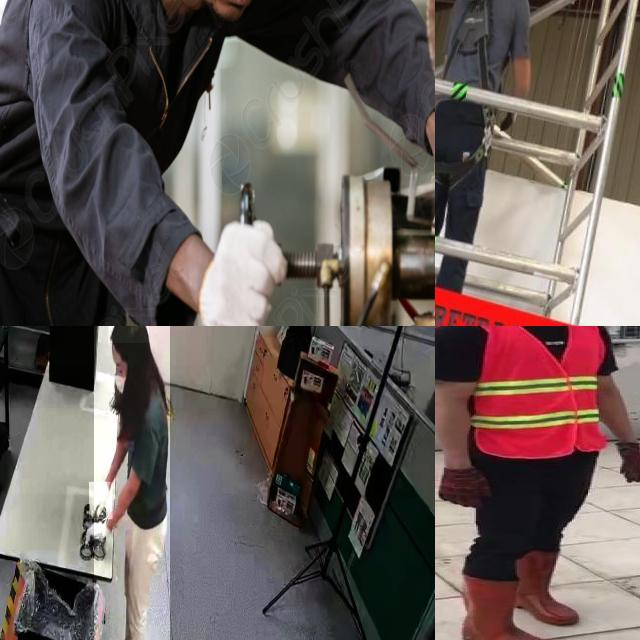Harness: (447, 0, 493, 90)
boots: (458, 577, 560, 640), (515, 551, 581, 625)
face_mask: (112, 356, 130, 400)
hand_glove: (89, 482, 113, 519), (85, 518, 109, 554)
head_nohelmet: (108, 326, 149, 344)
person: (435, 326, 640, 640), (93, 326, 170, 640)
vest: (468, 326, 609, 457)
